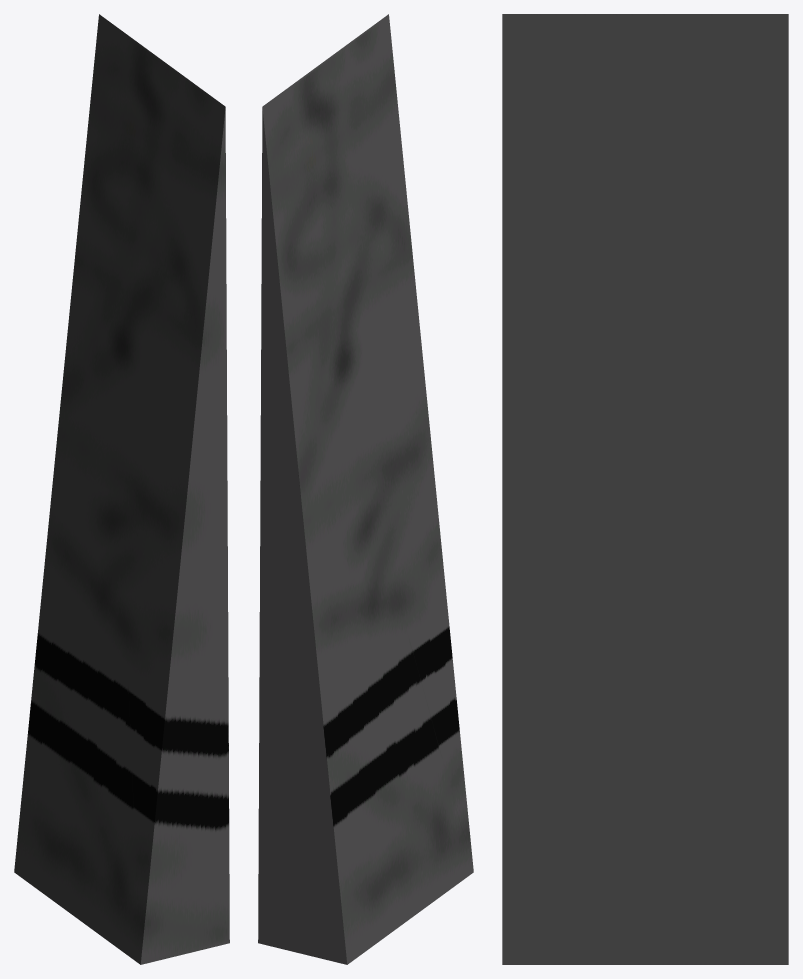
Rendered from wall.fbx.
3 views of the same model, side by side, from view 1: azimuth 30°, elevation 25°; view 2: azimuth 150°, elevation 25°; view 3: azimuth 270°, elevation 25° (orthographic). The views are drawn at different scales.
Visible parts, largest first — view 1: node_id5; view 2: node_id5; view 3: node_id5.
Boxes of the visible parts, <box> form: node_id5: <box>14,14,229,964</box>; node_id5: <box>258,14,473,964</box>; node_id5: <box>502,14,788,964</box>.
Bounding box in the file's own units: 0.057 × 0.512 × 0.1402.
Materials: 1 (1 with a texture image).
